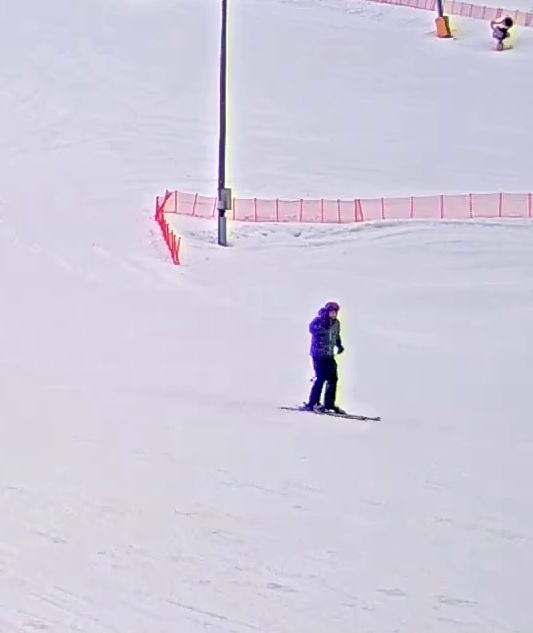skier: (279, 299, 383, 424)
